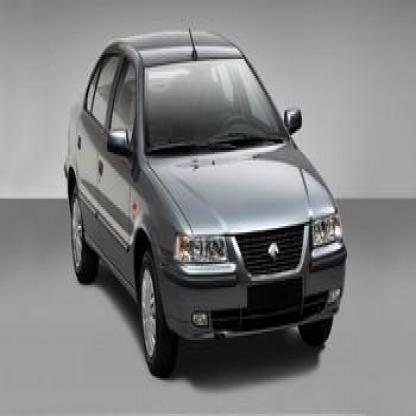Car: (64, 30, 350, 382)
